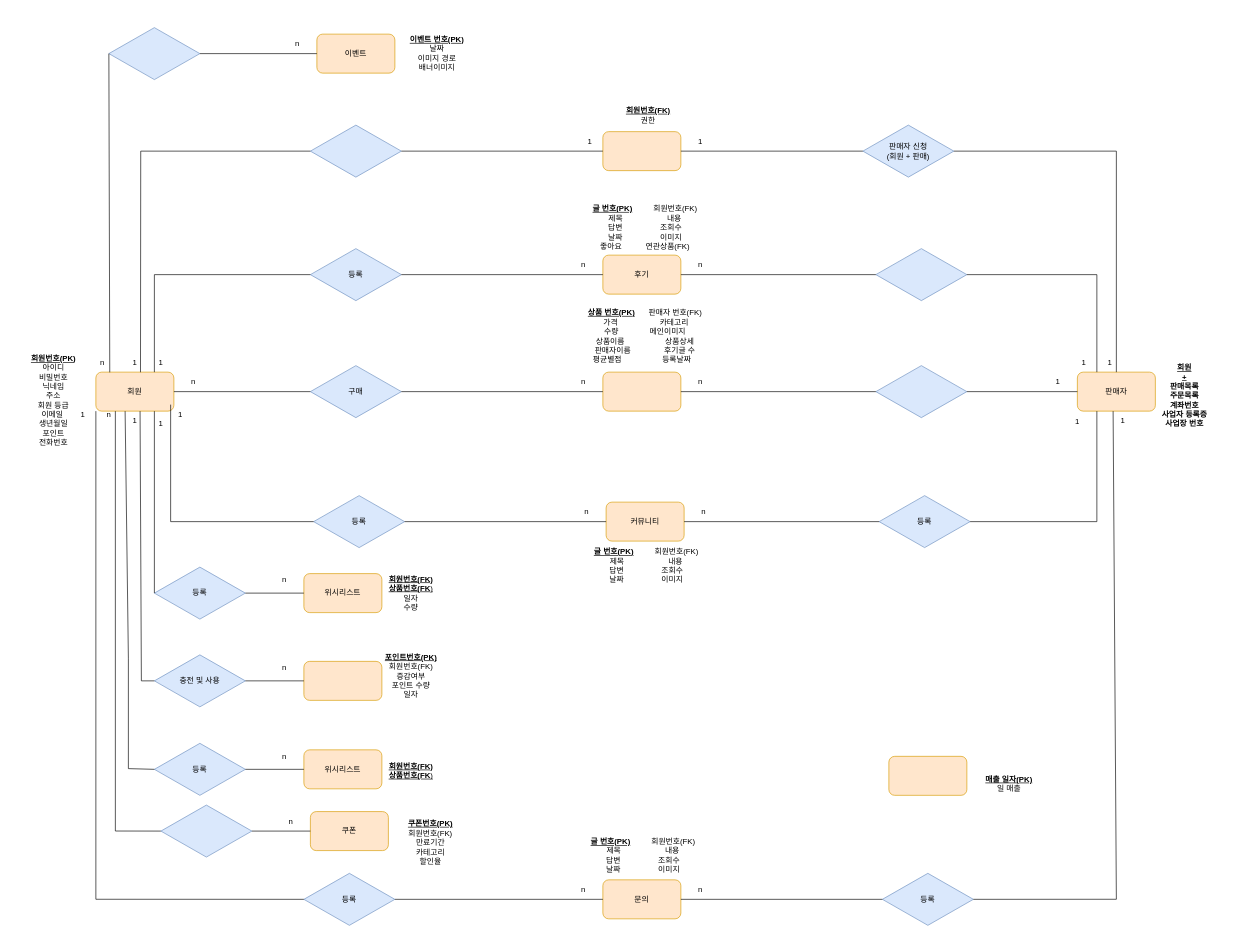
Image size: 1238x937. Some labels were removed from this diagram. The shapes that lost their labels are listed below. From the top down, each one's box as (x1, y1, x2, y2) in pixels, then its label:
(108, 27, 200, 80): 참여
(310, 124, 401, 177): 기본
(602, 131, 681, 171): 권한
(875, 248, 967, 301): 답변
(602, 371, 681, 411): 상품
(875, 365, 967, 418): 판매
(303, 661, 382, 700): 포인트
(888, 756, 967, 795): 매출
(160, 804, 252, 857): 등록 및 사용
